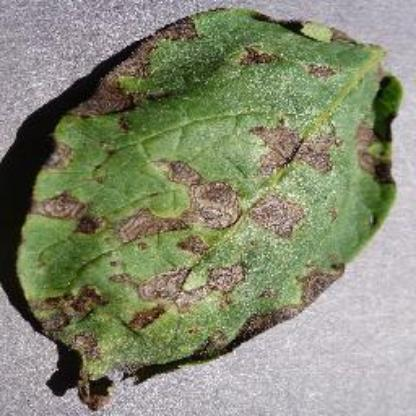Early-Blight: (18, 4, 408, 410)
